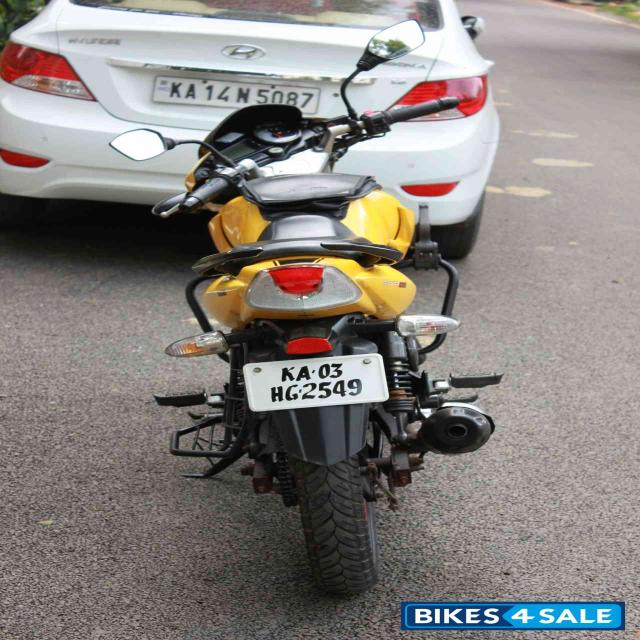number plate: (241, 352, 391, 412), (150, 74, 322, 115)
